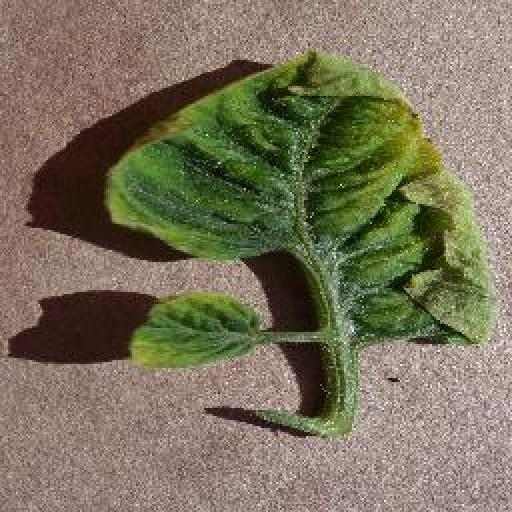Yellow Leaf Curl Virus: (106, 47, 493, 352), (132, 291, 264, 372)
